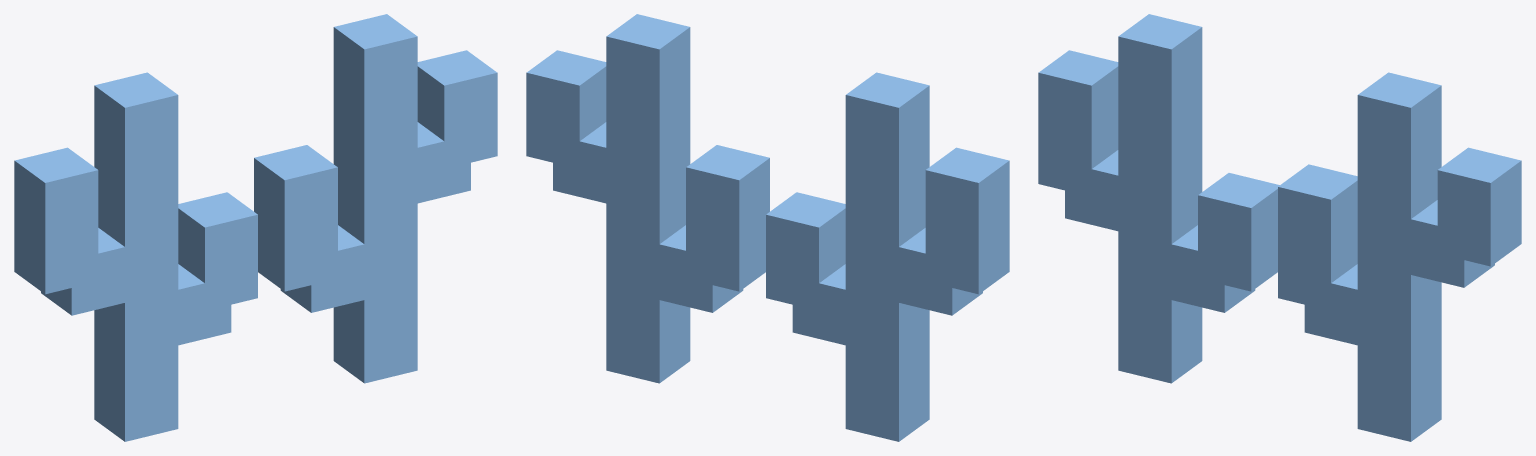
The model's file is littleCactus.glb.
3 renders of one model, left to right at view 1: azimuth 30°, elevation 25°; view 2: azimuth 150°, elevation 25°; view 3: azimuth 330°, elevation 25°, orthographic.
Visible parts, largest first — view 1: ObjObject; view 2: ObjObject; view 3: ObjObject.
Part boxes in pixels (box(x1,y1,x2,y2)): ObjObject: box(14, 14, 497, 441); ObjObject: box(526, 14, 1009, 441); ObjObject: box(1038, 14, 1521, 441).
Size of the model in its own units: 1.7 by 1.2 by 0.2.
1 material, 1 textured.
